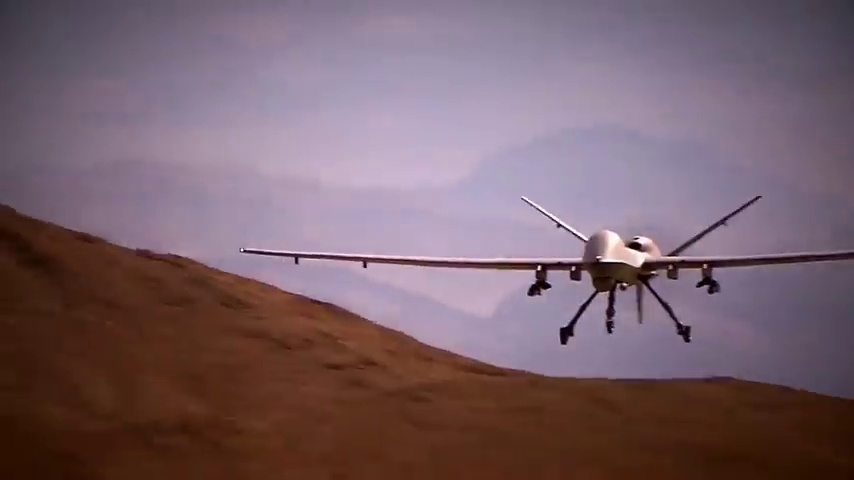military drone: (240, 196, 854, 344)
